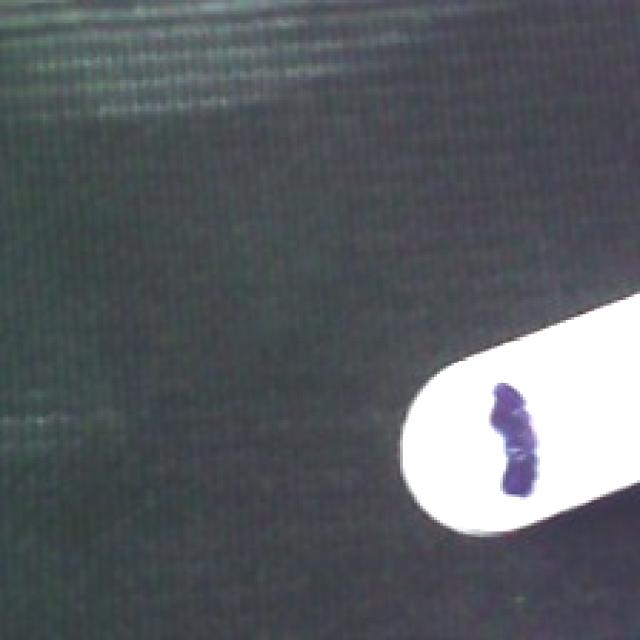defected: (400, 291, 640, 546)
